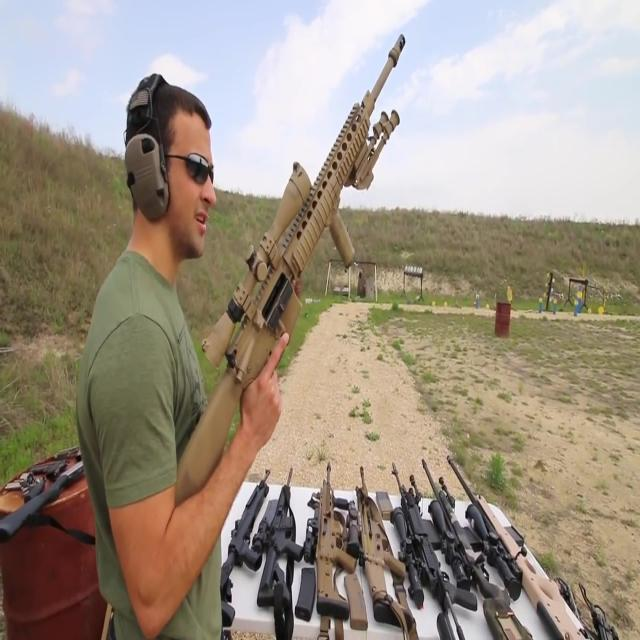Weapon: (141, 1, 467, 528), (168, 400, 640, 632), (0, 386, 189, 640)
